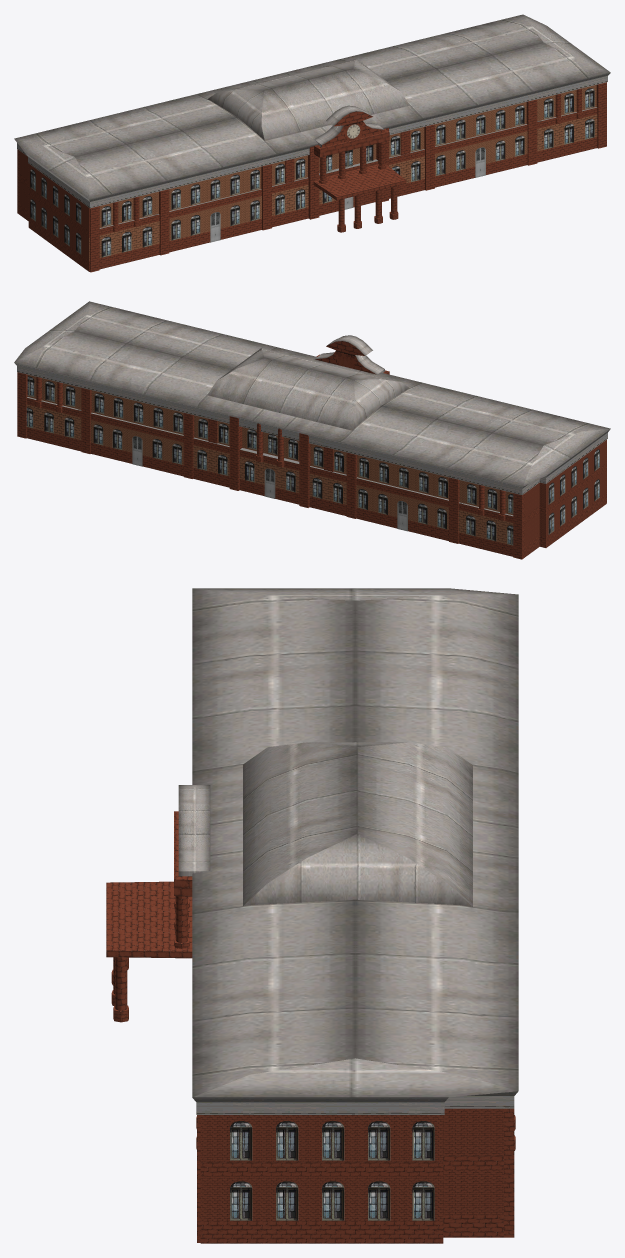
The model's file is irk center.fbx.
3 renders of one model, top to bottom at view 1: azimuth 30°, elevation 25°; view 2: azimuth 150°, elevation 25°; view 3: azimuth 270°, elevation 25°, orthographic. The views are drawn at different scales.
Visible parts, largest first — view 1: Polygon_3, Cube, Cloner_1, Cube_1, Polygon_1; view 2: Polygon_3, Cube, Cloner_1, Cube_1, Polygon_1; view 3: Polygon_3, Cube, Cloner_1, Cube_1.
Part boxes in pixels (bbox=[...]): Polygon_3: bbox=[14, 14, 610, 208]; Cube: bbox=[17, 82, 606, 272]; Cloner_1: bbox=[30, 88, 594, 257]; Cube_1: bbox=[314, 105, 384, 147]; Polygon_1: bbox=[210, 147, 485, 242]; Polygon_3: bbox=[14, 301, 610, 494]; Cube: bbox=[17, 354, 606, 559]; Cloner_1: bbox=[26, 376, 599, 545]; Cube_1: bbox=[314, 335, 384, 374]; Polygon_1: bbox=[132, 436, 407, 531]; Polygon_3: bbox=[192, 588, 518, 1114]; Cube: bbox=[106, 811, 515, 1243]; Cloner_1: bbox=[230, 1121, 434, 1220]; Cube_1: bbox=[178, 785, 210, 876].
Size of the model in its own units: 822 by 153 by 281.
7 materials, 7 textured.
